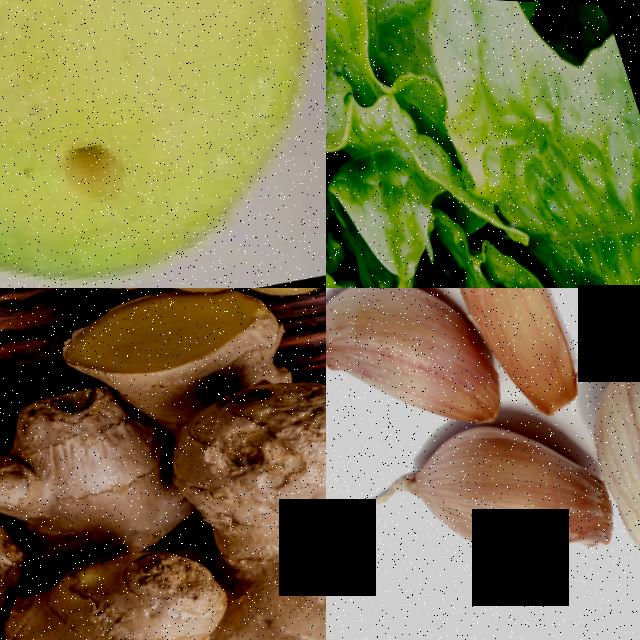garlic: (365, 396, 625, 592), (555, 288, 640, 640), (326, 288, 501, 458), (438, 288, 589, 423)
ginger: (126, 342, 326, 640), (0, 530, 225, 640)
lemon: (0, 0, 326, 288)
lettuce: (326, 0, 640, 288)
